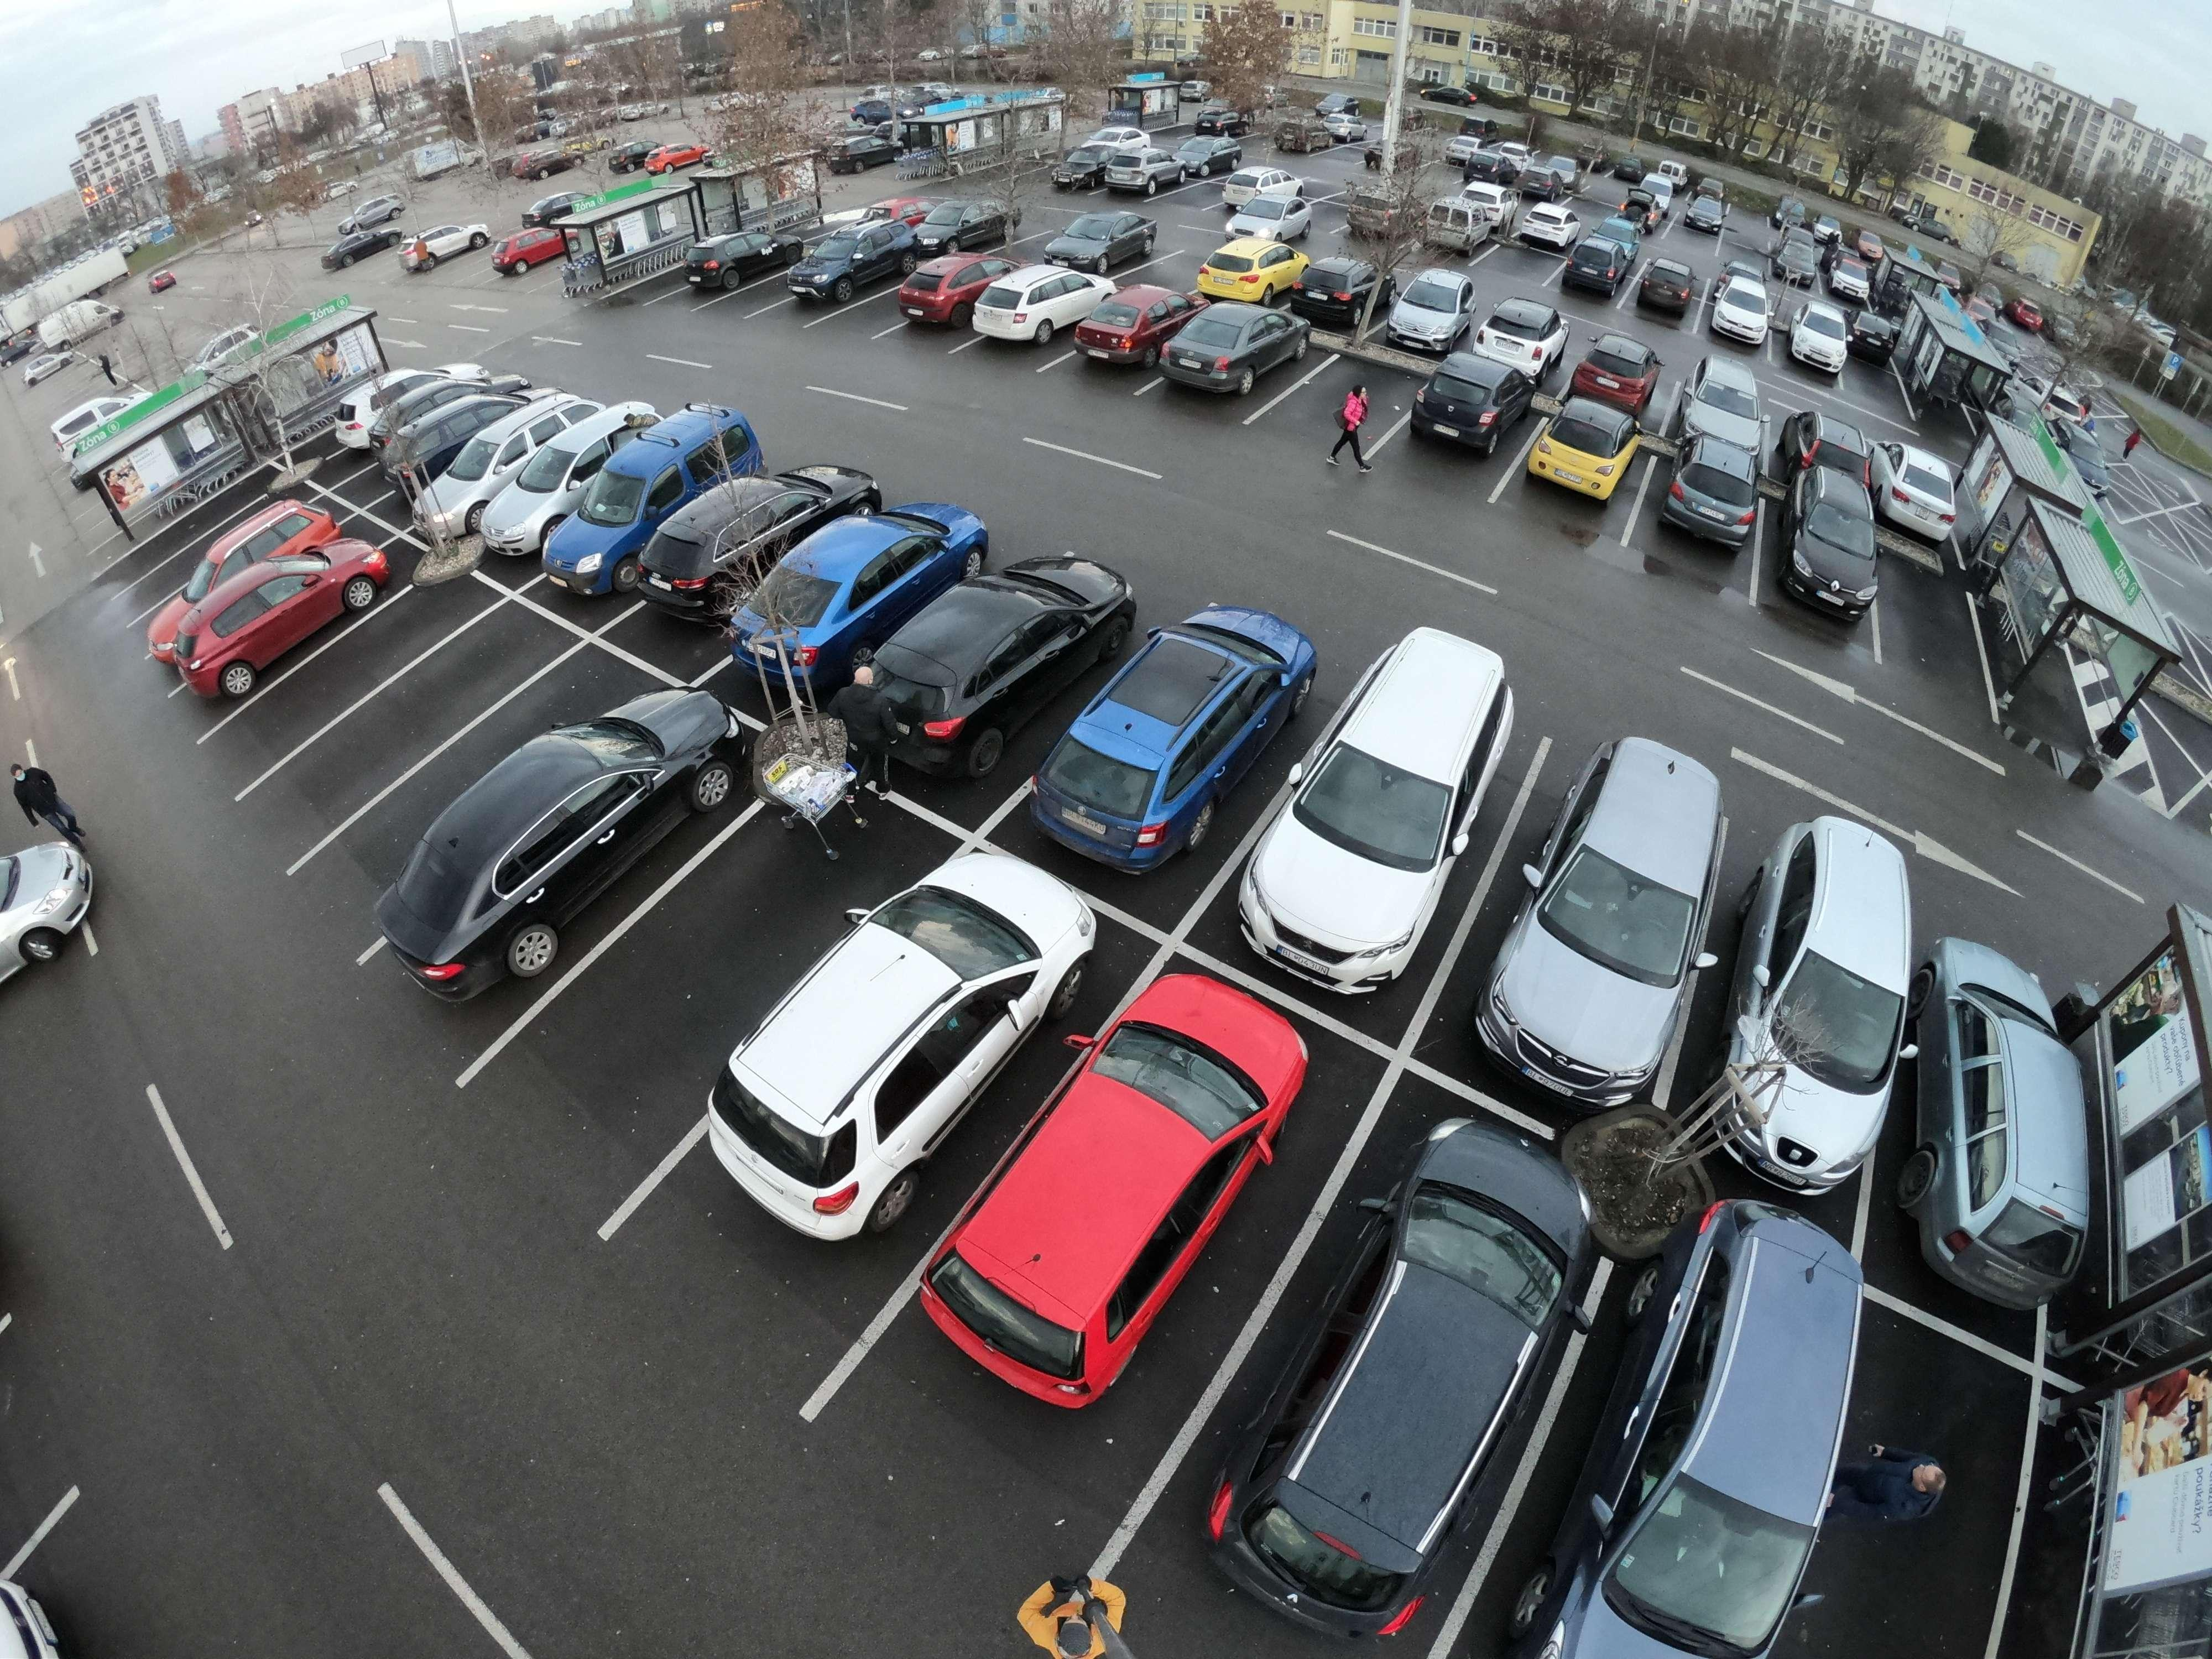empty: (1228, 1110, 1616, 1636), (1550, 1180, 1954, 1659), (930, 971, 1305, 1427), (698, 871, 1071, 1236), (390, 687, 782, 988), (1238, 615, 1526, 983), (1482, 725, 1759, 1101), (1719, 800, 1951, 1204), (1909, 943, 2165, 1302), (1031, 613, 1303, 873), (867, 561, 1127, 763), (526, 408, 763, 584), (158, 523, 423, 680), (2074, 1392, 2210, 1656), (756, 507, 986, 662), (641, 474, 859, 610), (434, 403, 650, 537), (1770, 441, 1897, 613), (1158, 301, 1315, 403), (362, 371, 526, 464), (1404, 357, 1541, 458), (1653, 439, 1777, 551), (1521, 403, 1653, 505), (1858, 439, 1977, 540), (792, 223, 932, 308), (972, 268, 1109, 352), (1071, 289, 1195, 371), (894, 254, 1019, 335), (1378, 270, 1486, 357), (1282, 263, 1393, 340), (1205, 232, 1318, 303), (1467, 300, 1566, 373), (1573, 333, 1669, 408), (1043, 211, 1153, 270), (899, 204, 1017, 254), (1421, 192, 1515, 254), (1775, 307, 1855, 378), (1702, 279, 1773, 354), (1555, 232, 1632, 300), (1346, 195, 1432, 253), (1629, 261, 1709, 321), (489, 228, 585, 277), (408, 228, 500, 270), (1510, 209, 1585, 256)
occupied: (618, 894, 815, 1047), (1853, 570, 1987, 697), (366, 674, 493, 749), (484, 666, 611, 730), (1298, 375, 1406, 448), (296, 636, 381, 706), (735, 268, 791, 315), (1144, 249, 1211, 284)
